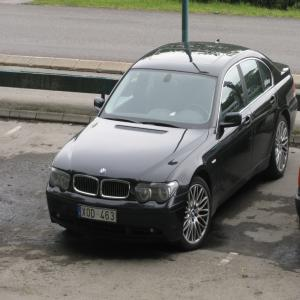Vehicle-registration-plate: (78, 205, 119, 217)
